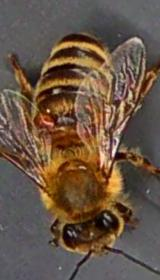varroa_mite: (33, 110, 57, 128)
